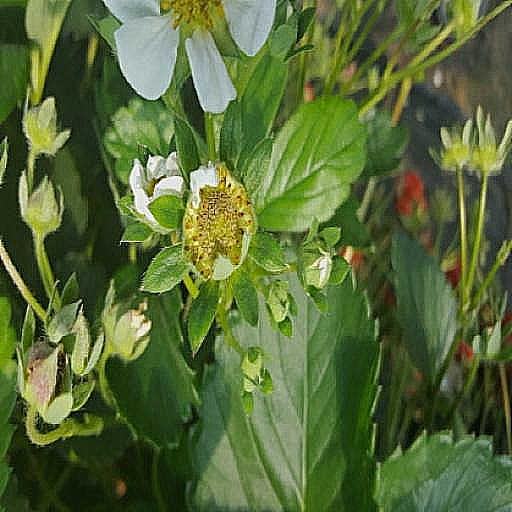Blossom Blight: (180, 234, 257, 347)
